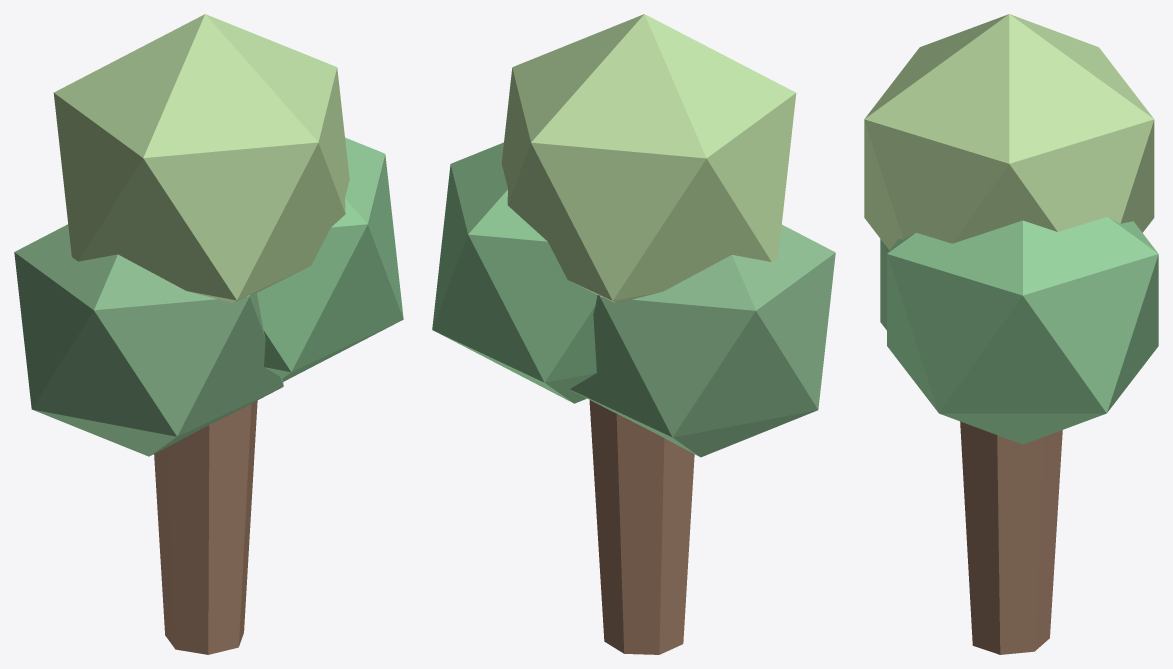
Rendered from deco_tree.glb.
3 renders of one model, left to right at view 1: azimuth 30°, elevation 25°; view 2: azimuth 150°, elevation 25°; view 3: azimuth 270°, elevation 25°, orthographic.
Parts seen in each view (by area): view 1: top foliage, left foliage, faceted trunk, right foliage; view 2: top foliage, left foliage, right foliage, faceted trunk; view 3: top foliage, right foliage, faceted trunk, left foliage.
Part boxes in pixels (x1,y1,x2,y2): top foliage: (53, 14, 349, 303); left foliage: (14, 224, 283, 456); faceted trunk: (154, 400, 257, 654); right foliage: (257, 137, 403, 381); top foliage: (501, 14, 796, 303); left foliage: (570, 224, 835, 457); right foliage: (432, 142, 597, 403); faceted trunk: (589, 400, 694, 654); top foliage: (864, 14, 1154, 250); right foliage: (887, 217, 1158, 444); faceted trunk: (960, 421, 1062, 654); left foliage: (880, 239, 889, 330).
Size of the model in its own units: 1.54 by 2.55 by 1.09.
